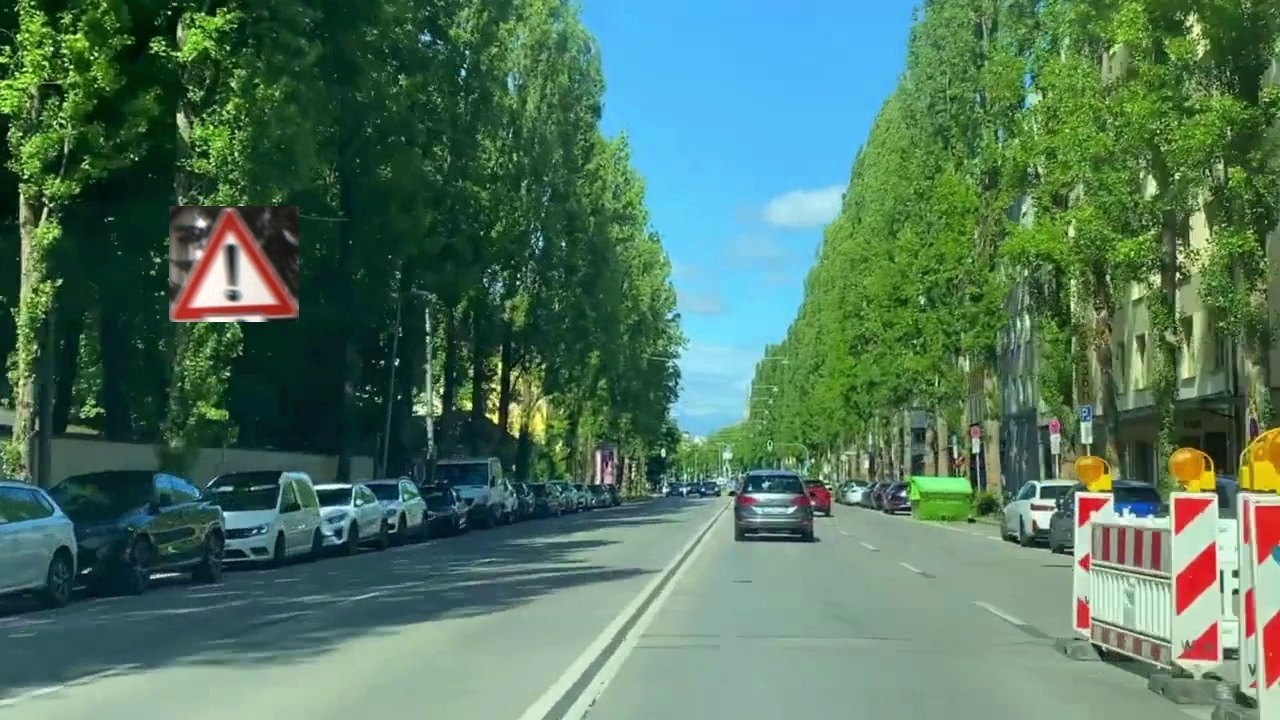Caution: (169, 206, 299, 322)
